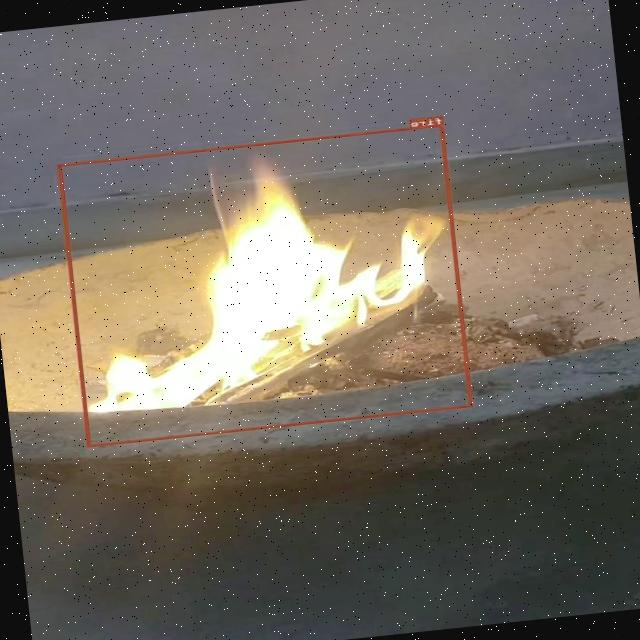fire: (58, 124, 474, 446)
